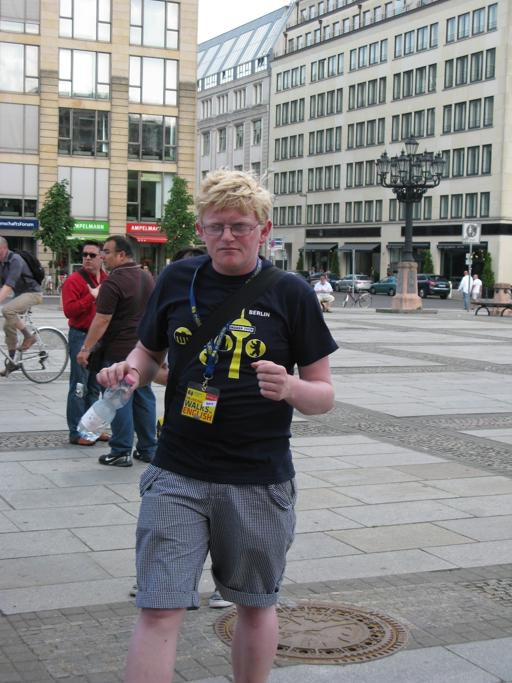non-vehicle: (0, 303, 71, 384), (339, 283, 373, 311)
